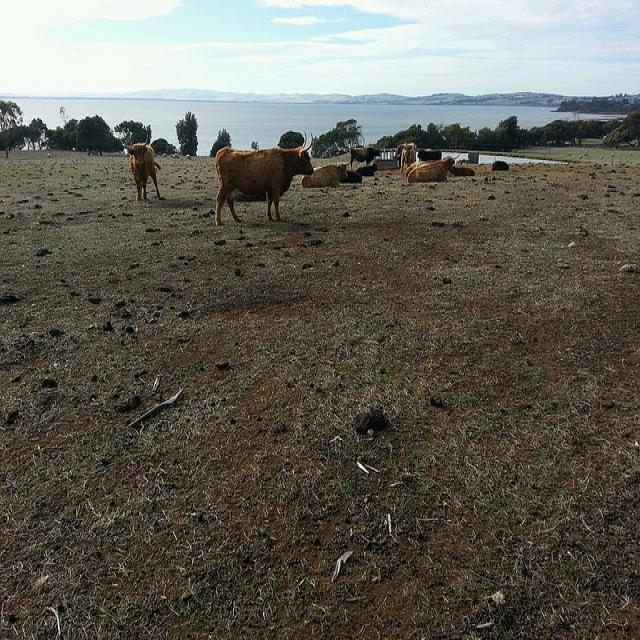cow: (214, 128, 313, 224), (125, 132, 156, 201), (404, 154, 454, 182), (299, 159, 348, 184), (349, 145, 379, 167), (396, 140, 413, 171), (353, 160, 377, 177), (448, 163, 474, 176), (416, 147, 438, 160), (344, 168, 362, 183), (491, 160, 508, 169)
